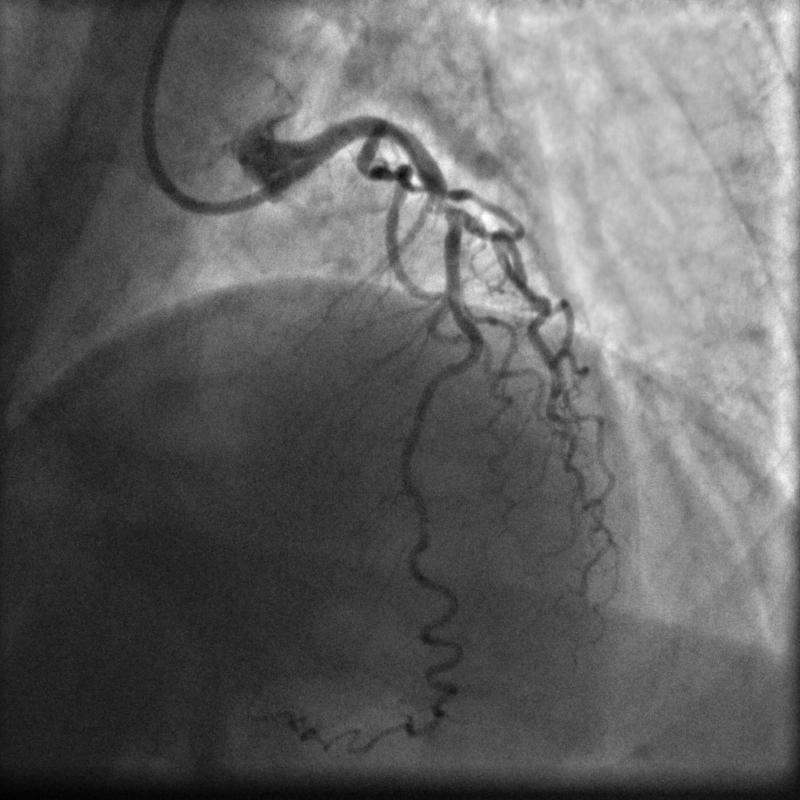Stenosis: (424, 190, 458, 211)
